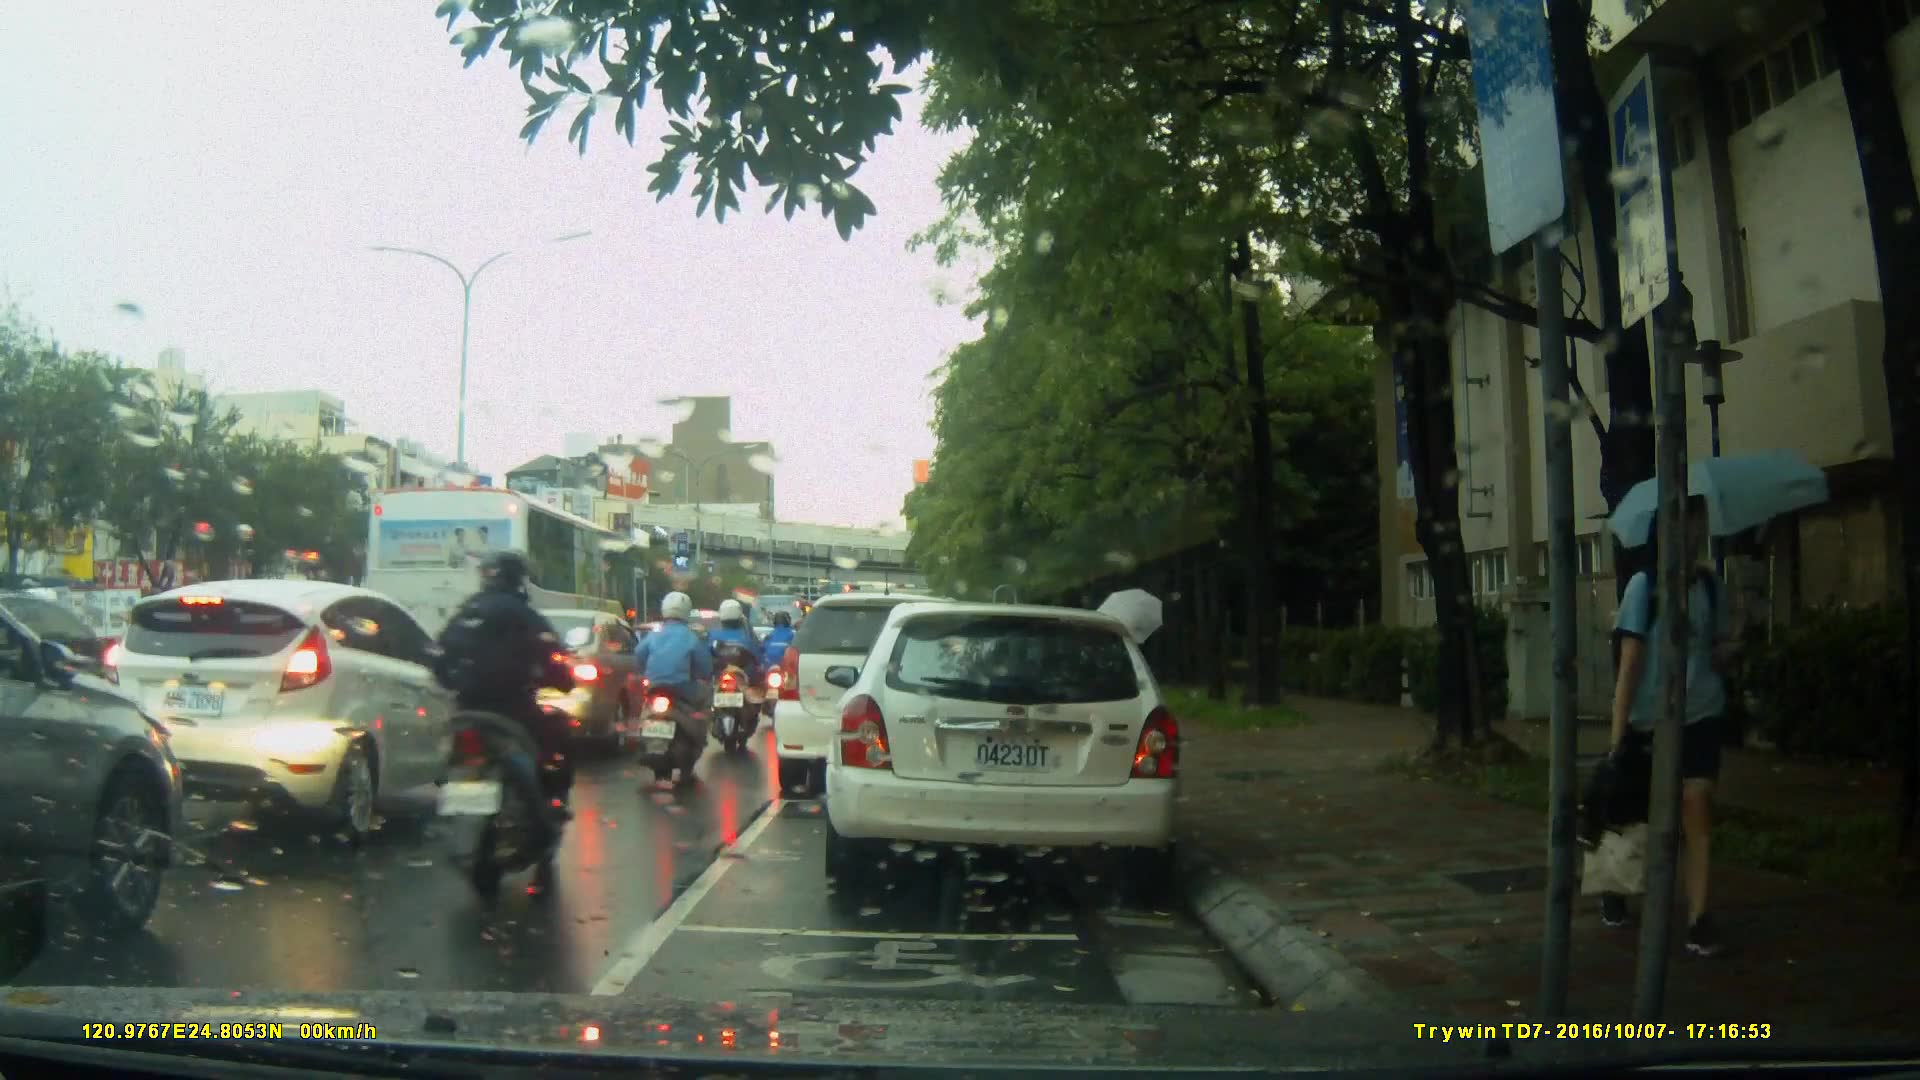pedestrian: (1587, 474, 1745, 965)
rider: (411, 540, 599, 901), (637, 594, 714, 779), (710, 594, 772, 767), (757, 610, 806, 735)
vehicle: (835, 594, 1194, 898), (101, 576, 489, 846), (1, 547, 184, 971), (362, 484, 651, 727), (776, 590, 1026, 784), (438, 607, 673, 755), (616, 621, 723, 711)
